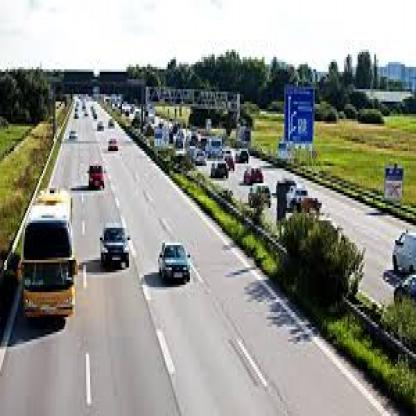car: (22, 186, 80, 339), (98, 217, 134, 279), (155, 238, 195, 286), (83, 158, 108, 194), (209, 157, 231, 182), (242, 165, 265, 186), (104, 137, 121, 155), (67, 130, 78, 148), (93, 119, 105, 135), (108, 118, 116, 134)
